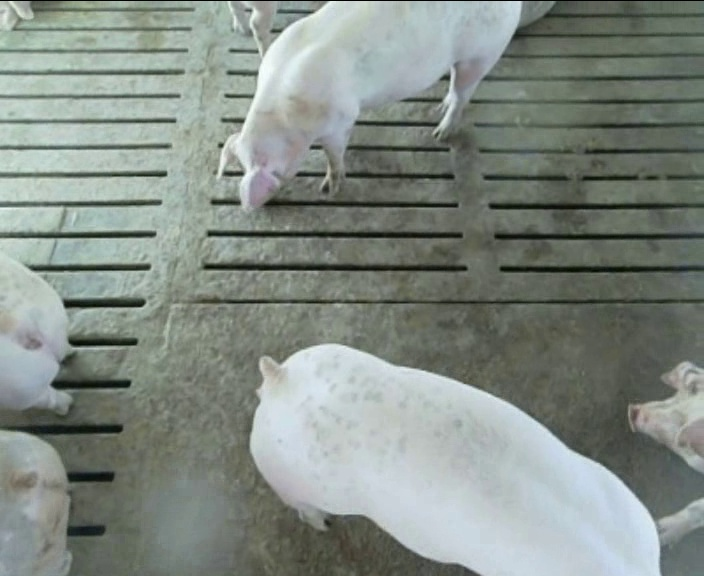pig: (250, 345, 658, 573), (218, 4, 521, 210)
